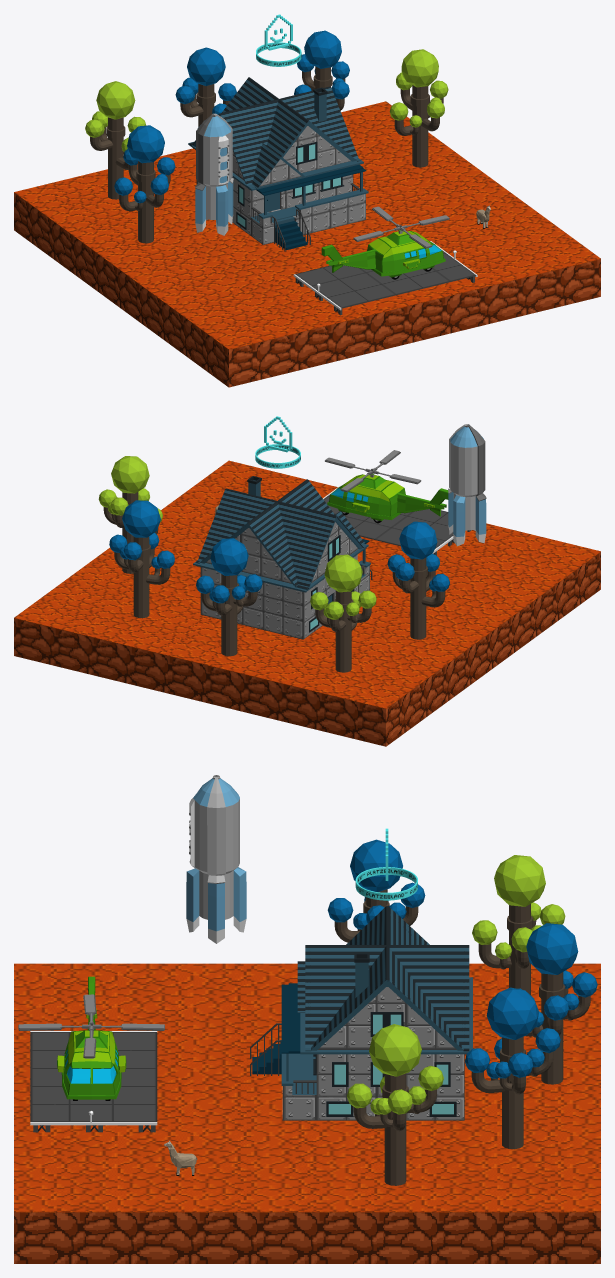
3 views of the same model, one above another, from view 1: azimuth 30°, elevation 25°; view 2: azimuth 150°, elevation 25°; view 3: azimuth 270°, elevation 25° (orthographic). The views are drawn at different scales.
Visible parts, largest first — view 1: Cube.001, Cube.078, OBJRANDOM_ROCKETSHIP, VEHICLES_HELICOPTER, TYPE_PREMIUM; view 2: Cube.001, Cube.078, OBJRANDOM_ROCKETSHIP, VEHICLES_HELICOPTER, TYPE_PREMIUM; view 3: Cube.001, Cube.078, OBJRANDOM_ROCKETSHIP, VEHICLES_HELICOPTER, TYPE_PREMIUM.
Part boxes in pixels (x1=…): Cube.001: x1=14, y1=30, x2=600, y2=387; Cube.078: x1=188, y1=77, x2=368, y2=251; OBJRANDOM_ROCKETSHIP: x1=195, y1=113, x2=233, y2=235; VEHICLES_HELICOPTER: x1=321, y1=206, x2=449, y2=279; TYPE_PREMIUM: x1=256, y1=14, x2=301, y2=66; Cube.001: x1=14, y1=456, x2=600, y2=746; Cube.078: x1=193, y1=476, x2=372, y2=639; OBJRANDOM_ROCKETSHIP: x1=448, y1=424, x2=486, y2=546; VEHICLES_HELICOPTER: x1=325, y1=450, x2=448, y2=523; TYPE_PREMIUM: x1=255, y1=416, x2=300, y2=468; Cube.001: x1=14, y1=839, x2=600, y2=1263; Cube.078: x1=250, y1=906, x2=472, y2=1120; OBJRANDOM_ROCKETSHIP: x1=186, y1=775, x2=246, y2=943; VEHICLES_HELICOPTER: x1=18, y1=976, x2=164, y2=1100; TYPE_PREMIUM: x1=355, y1=828, x2=417, y2=900.
Bounding box in the file's own units: 4000 × 2360 × 4000.
Materials: 36 (8 with a texture image).
